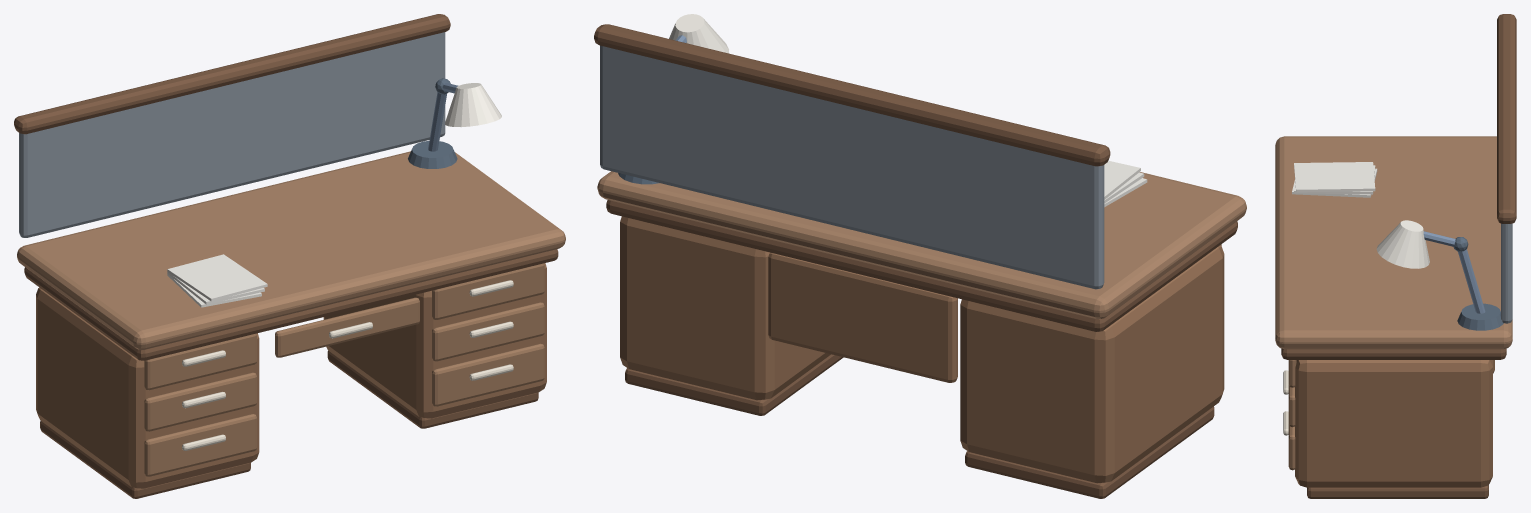
File: desk_b.glb
3 renders of one model, left to right at view 1: azimuth 30°, elevation 25°; view 2: azimuth 150°, elevation 25°; view 3: azimuth 270°, elevation 25°, orthographic. The views are drawn at different scales.
Visible parts, largest first — view 1: Desk, Bulb; view 2: Desk, Bulb; view 3: Desk, Bulb.
Boxes of the visible parts, x1,y1,x2,y2 form: Desk: (14, 14, 565, 498); Bulb: (445, 83, 501, 127); Desk: (594, 24, 1246, 498); Bulb: (669, 14, 728, 53); Desk: (1275, 14, 1516, 498); Bulb: (1376, 220, 1429, 268).
Bounding box in the file's own units: 1.2 × 0.82 × 0.61.
